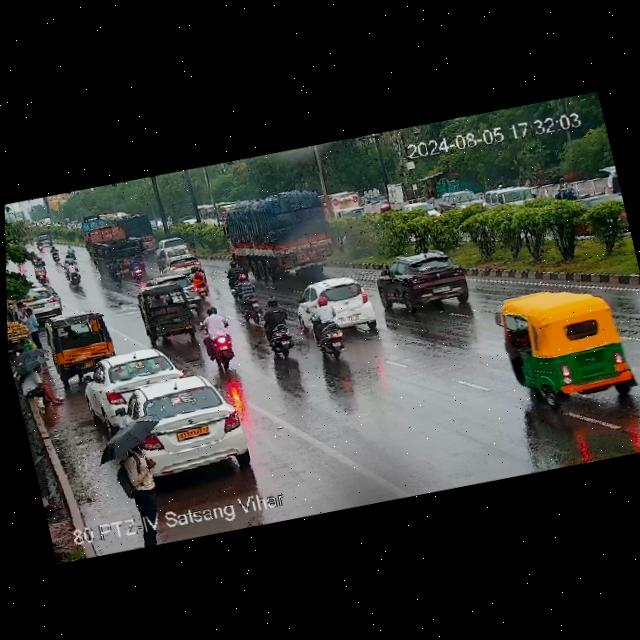car: (493, 268, 640, 416), (117, 368, 250, 485), (82, 341, 190, 418), (375, 240, 477, 319), (289, 269, 383, 343), (41, 306, 122, 381), (136, 274, 205, 343), (483, 180, 542, 221), (435, 180, 490, 217), (156, 231, 199, 262)
motorcycle: (254, 290, 304, 363), (195, 302, 242, 372), (303, 296, 350, 364), (233, 270, 265, 326), (225, 252, 249, 299), (185, 264, 213, 301), (554, 171, 578, 203), (123, 251, 149, 280), (106, 251, 125, 289), (33, 231, 57, 252), (65, 260, 82, 286), (33, 257, 49, 283), (49, 245, 63, 264), (65, 243, 76, 261)
person: (99, 421, 168, 520), (15, 357, 69, 414), (22, 303, 49, 350)
truck: (213, 180, 349, 304), (82, 210, 148, 273)
